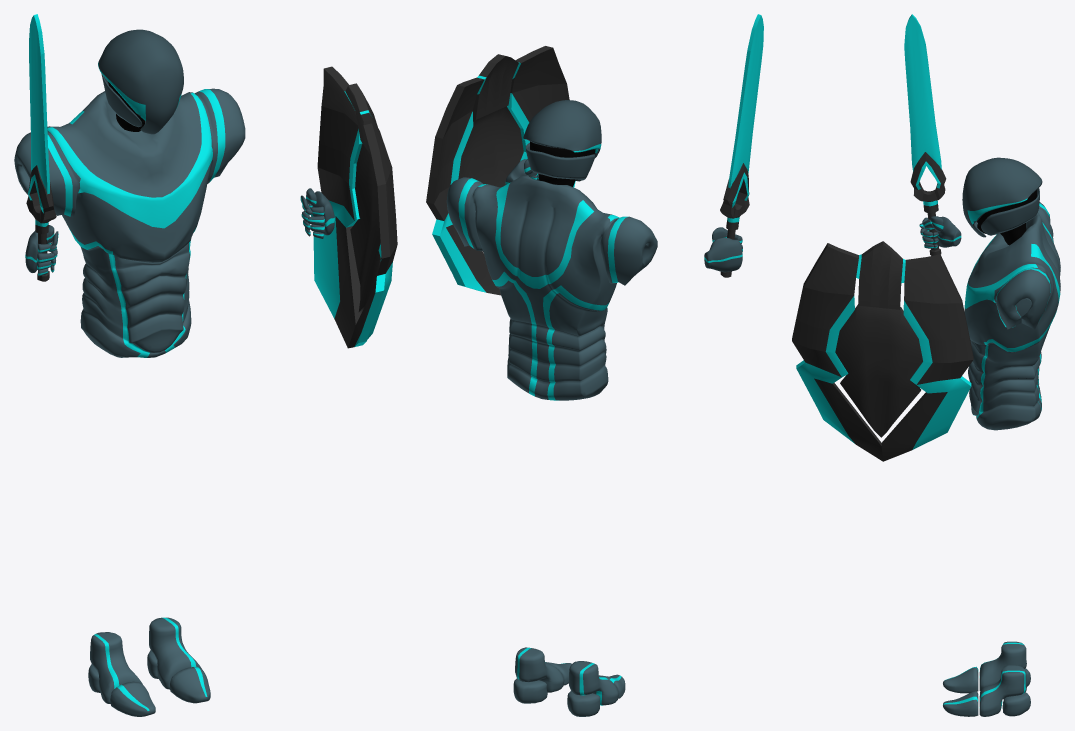
File: ETA_player.fbx
3 views of the same model, side by side, from view 1: azimuth 30°, elevation 25°; view 2: azimuth 150°, elevation 25°; view 3: azimuth 270°, elevation 25° (orthographic). The views are drawn at different scales.
Parts seen in each view (by area): view 1: torso, shield, face_skull, blade, l_foot, r_foot, hilt, r_ball, l_ball, cheek; view 2: torso, shield, face_skull, blade, cheek, r_foot, l_foot, hilt, r_palm, head_under, l_heel, r_heel; view 3: shield, torso, face_skull, blade, l_foot, hilt, r_foot, cheek, r_ball, head_under, l_ball, l_heel (+1 smaller).
Part boxes in pixels (<box>): torso: <box>14,88,245,357</box>; shield: <box>313,66,397,348</box>; face_skull: <box>98,29,183,134</box>; blade: <box>29,14,49,194</box>; l_foot: <box>149,617,201,689</box>; r_foot: <box>90,632,142,703</box>; hilt: <box>26,165,56,281</box>; r_ball: <box>110,681,155,716</box>; l_ball: <box>170,667,210,703</box>; cheek: <box>101,73,142,127</box>; torso: <box>446,175,657,400</box>; shield: <box>426,46,575,295</box>; face_skull: <box>523,100,601,181</box>; blade: <box>728,14,763,188</box>; cheek: <box>526,143,594,180</box>; r_foot: <box>569,661,618,705</box>; l_foot: <box>515,647,564,692</box>; hilt: <box>720,163,749,277</box>; r_palm: <box>704,237,742,272</box>; head_under: <box>530,141,595,186</box>; l_heel: <box>513,678,547,703</box>; r_heel: <box>567,691,600,716</box>; shield: <box>792,241,973,461</box>; torso: <box>964,202,1060,430</box>; face_skull: <box>962,157,1042,237</box>; blade: <box>904,14,941,171</box>; l_foot: <box>979,665,1026,716</box>; hilt: <box>910,152,946,255</box>; r_foot: <box>979,641,1026,691</box>; cheek: <box>981,188,1039,235</box>; r_ball: <box>943,666,978,693</box>; head_under: <box>977,190,1036,245</box>; l_ball: <box>943,691,978,716</box>; l_heel: <box>1002,692,1030,716</box>.
Size of the model in its own units: 17.18 by 36.55 by 14.34.
